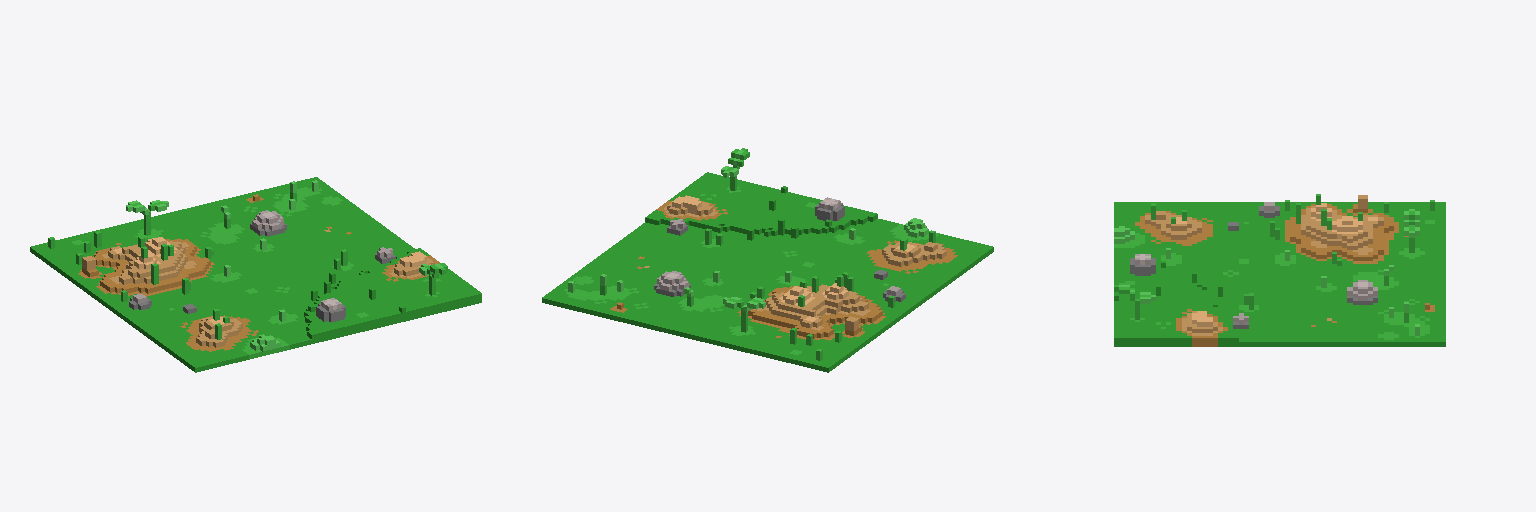
The picture shows the model from 3 angles: view 1: azimuth 30°, elevation 25°; view 2: azimuth 150°, elevation 25°; view 3: azimuth 270°, elevation 25°; orthographic projection.
Bounding box in the file's own units: 64 × 9 × 64.
Materials: 1 (1 with a texture image).